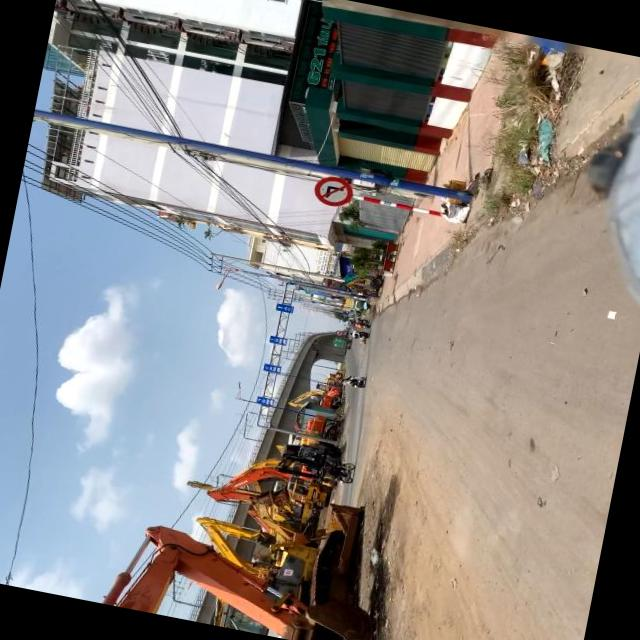P-123a: (312, 173, 354, 208)
